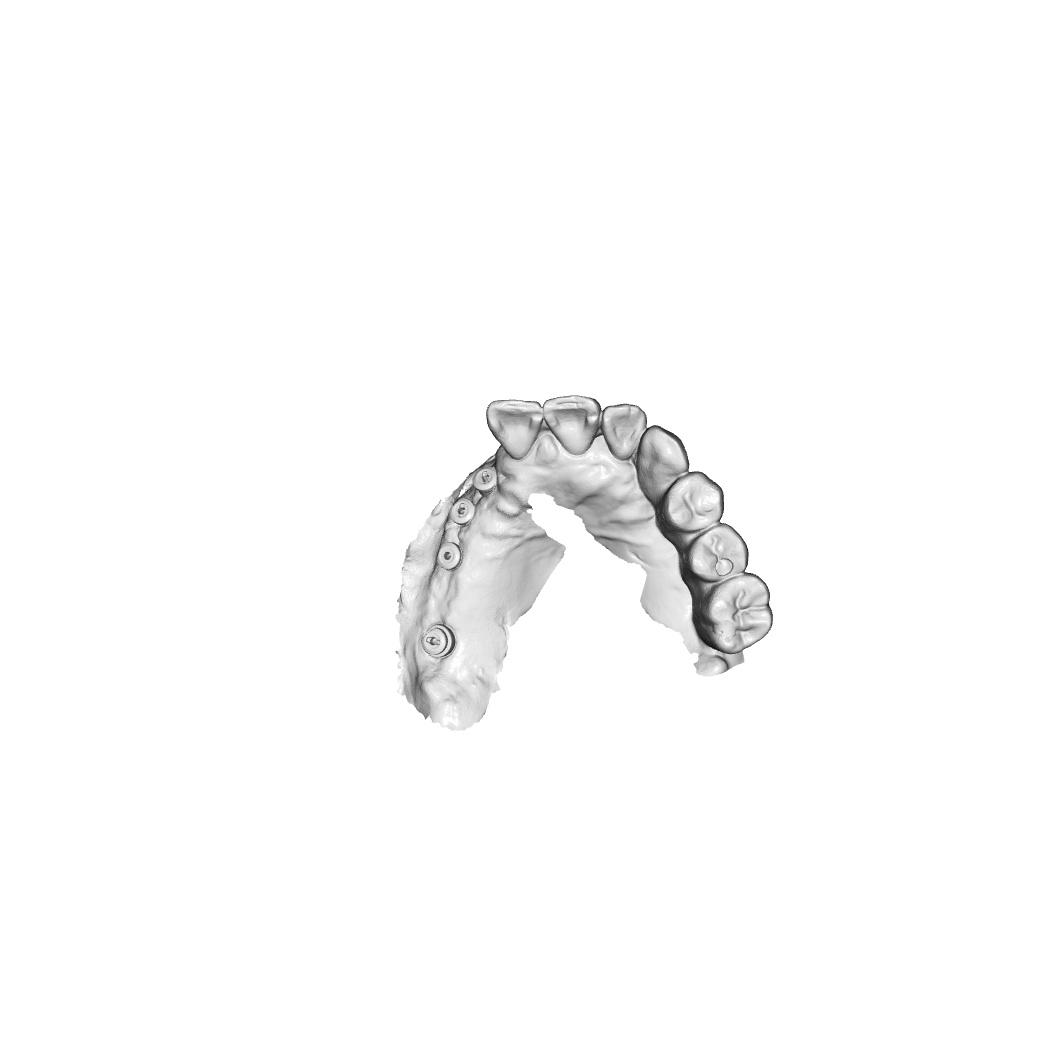canine: (638, 423, 691, 505)
implant: (435, 540, 463, 572)
implant_minus: (419, 624, 457, 659), (472, 464, 498, 497), (448, 497, 476, 526)
incisor: (542, 393, 601, 457), (485, 398, 544, 460), (602, 402, 648, 462)
molar: (695, 573, 774, 655)
premolar: (660, 469, 727, 535), (684, 522, 750, 584)
